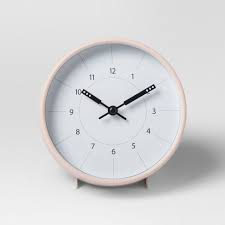alarm_clock: (38, 35, 186, 189), (43, 35, 186, 189), (43, 41, 186, 189)
